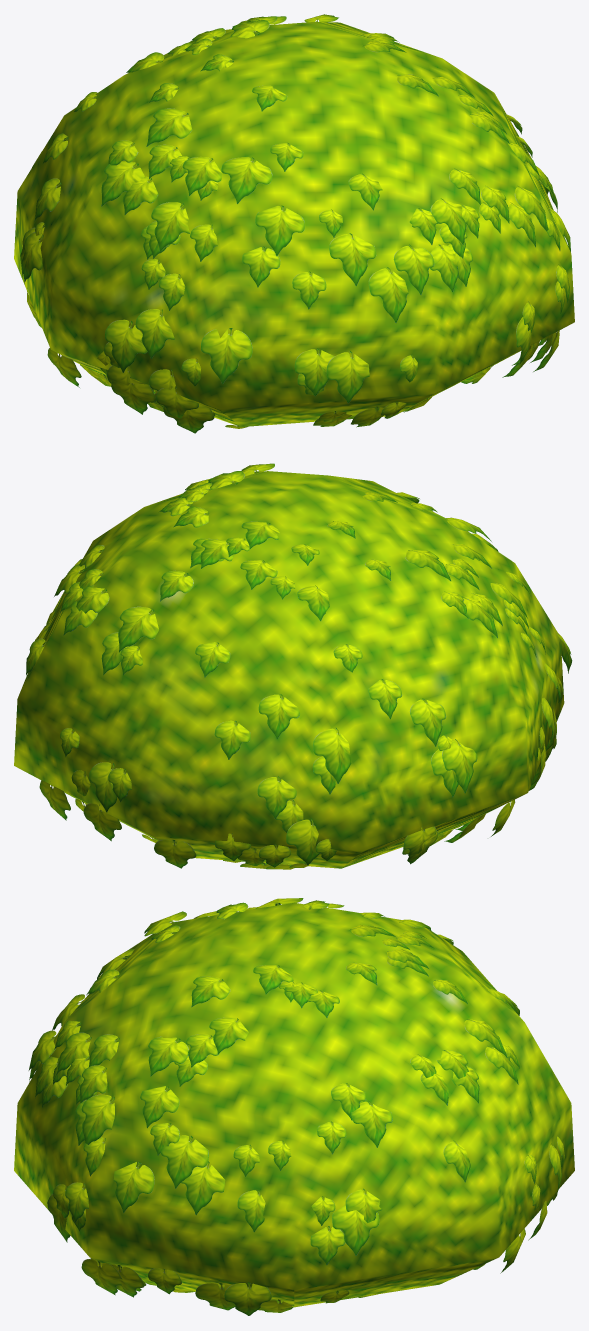
The model's file is Bush01_Dream.glb.
The picture shows the model from 3 angles, top to bottom: view 1: azimuth 30°, elevation 25°; view 2: azimuth 150°, elevation 25°; view 3: azimuth 270°, elevation 25°; orthographic projection.
Parts seen in each view (by area): view 1: Bush01_dream; view 2: Bush01_dream; view 3: Bush01_dream.
Boxes of the visible parts, <box> form: Bush01_dream: <box>14,14,574,433</box>; Bush01_dream: <box>14,463,572,869</box>; Bush01_dream: <box>14,898,574,1315</box>.
Size of the model in its own units: 0.8544 by 0.5325 by 0.8544.
Materials: 1 (1 with a texture image).
